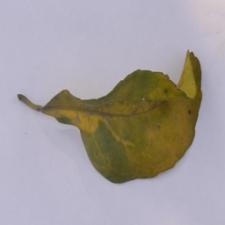Greening: (21, 45, 208, 177)
